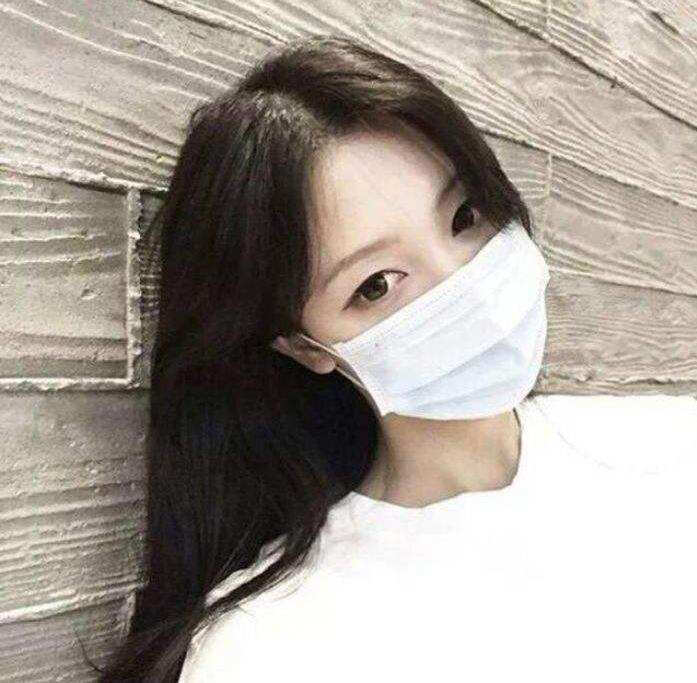mask: (273, 194, 579, 417)
